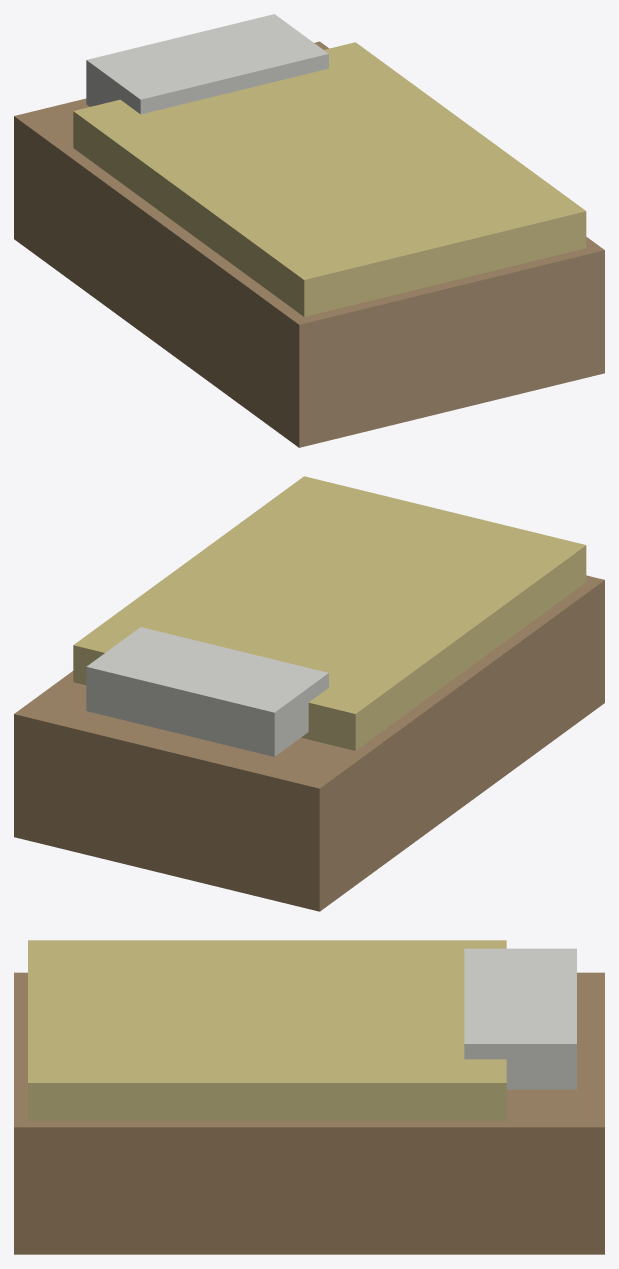
The model's file is furn_bed.glb.
The picture shows the model from 3 angles, top to bottom: view 1: azimuth 30°, elevation 25°; view 2: azimuth 150°, elevation 25°; view 3: azimuth 270°, elevation 25°; orthographic projection. The views are drawn at different scales.
Visible parts, largest first — view 1: furn_bed2; view 2: furn_bed2; view 3: furn_bed2.
Part boxes in pixels (<box>): furn_bed2: <box>14,14,604,447</box>; furn_bed2: <box>14,476,604,911</box>; furn_bed2: <box>14,940,604,1254</box>.
Size of the model in its own units: 1.3 by 0.71 by 2.1.
